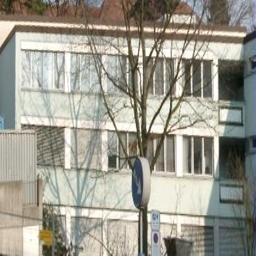building: (2, 0, 256, 238)
